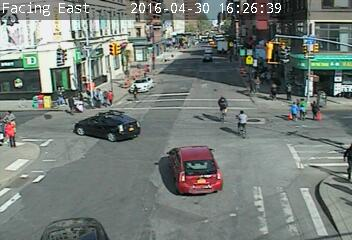neg: (185, 154, 219, 199), (238, 159, 271, 203), (74, 128, 105, 169), (292, 147, 320, 185), (35, 83, 63, 120), (58, 41, 85, 78), (147, 102, 174, 139), (128, 154, 154, 188), (161, 42, 183, 72), (229, 107, 251, 136), (208, 39, 230, 68), (302, 44, 323, 73), (257, 36, 278, 64), (22, 178, 42, 205), (210, 92, 229, 117)
pos: (127, 83, 143, 104), (296, 95, 311, 116), (286, 101, 300, 120), (268, 79, 282, 97), (311, 100, 324, 118), (284, 82, 297, 98)
